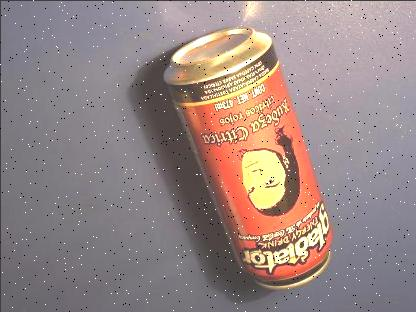Can: (162, 25, 332, 288)
